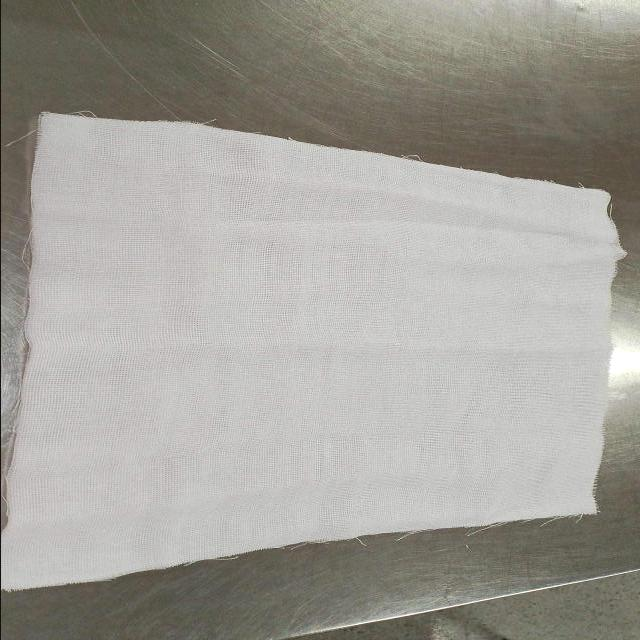General: (4, 110, 626, 595)
